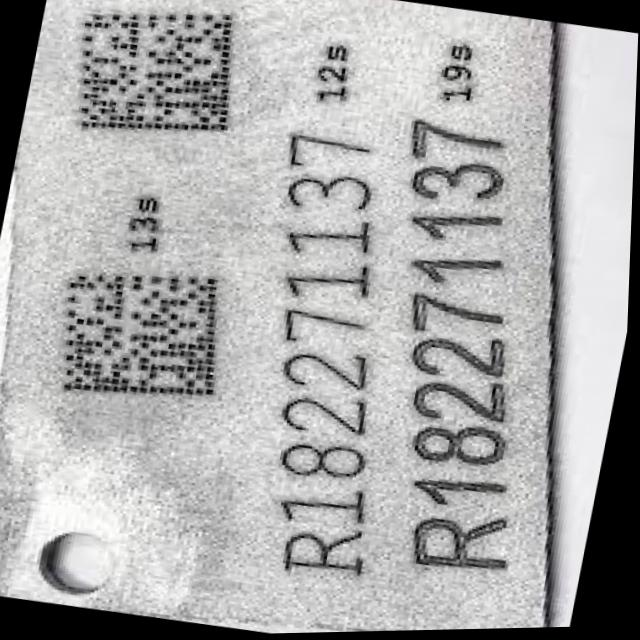datamatrix: (39, 248, 253, 426), (52, 1, 262, 160)
